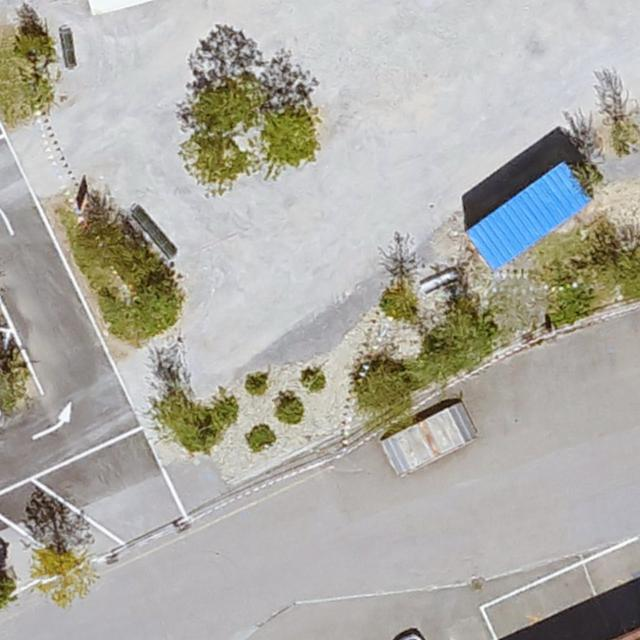tree: (87, 225, 182, 335), (30, 531, 99, 606), (184, 134, 251, 190), (192, 79, 262, 132), (360, 359, 414, 426), (266, 104, 316, 169), (448, 312, 491, 366), (167, 402, 215, 448), (0, 347, 26, 410), (13, 28, 52, 58), (386, 296, 418, 327), (577, 167, 605, 198), (623, 251, 640, 299), (613, 129, 638, 154), (0, 576, 13, 608)
